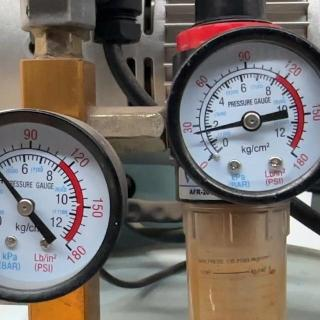gauge: (165, 21, 319, 207), (0, 106, 126, 310), (241, 110, 262, 132), (201, 148, 221, 168), (286, 146, 306, 166), (59, 236, 77, 258), (17, 197, 35, 217), (191, 129, 201, 137)
